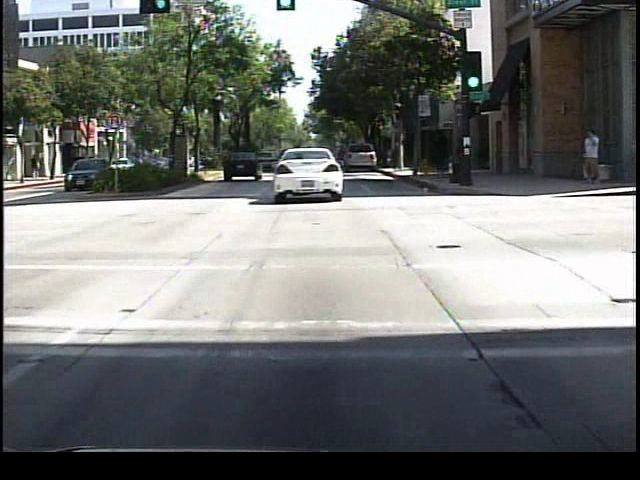person: (579, 125, 603, 186), (29, 149, 46, 183)
